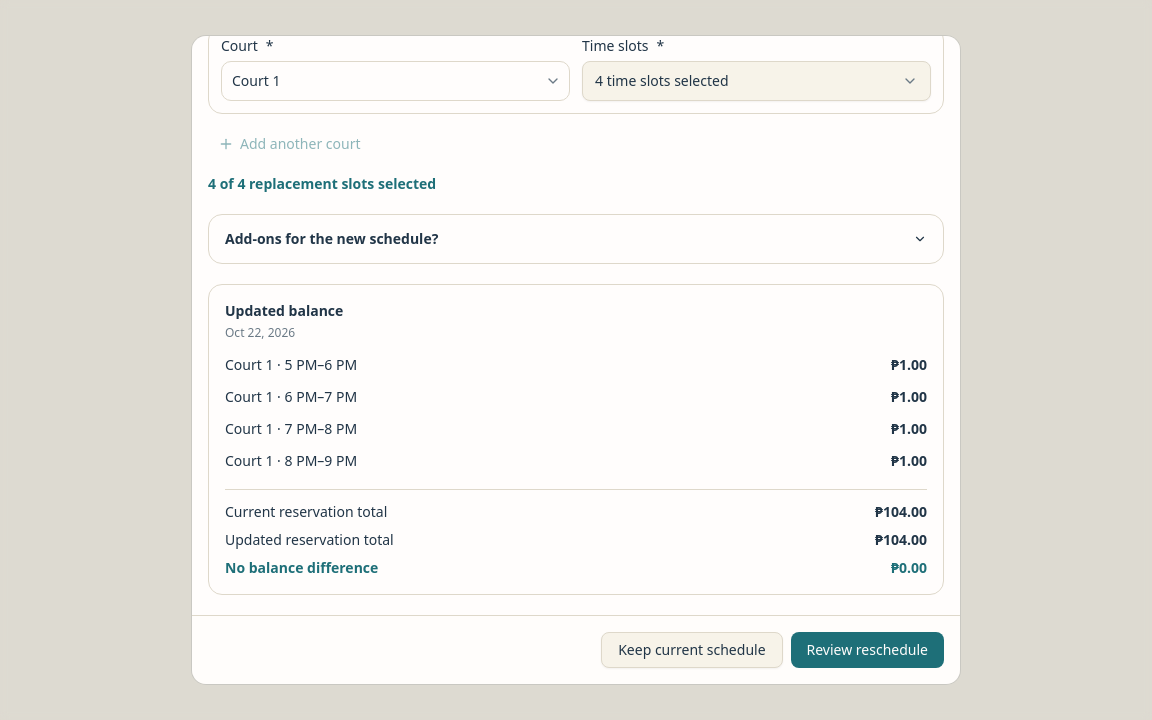
Test: rescheduling the current reservation › does not offer money already refunded as credit on a later reschedule
This screenshot has width=1152, height=720.
(page scrolled)
Check: the text "No balance difference" is shown, box [225,558,378,578]
What coordinates should you click on to do the following:
click the button "Review reschedule"
I would click on:
 (867, 650)
Its box is [790,632,944,668].
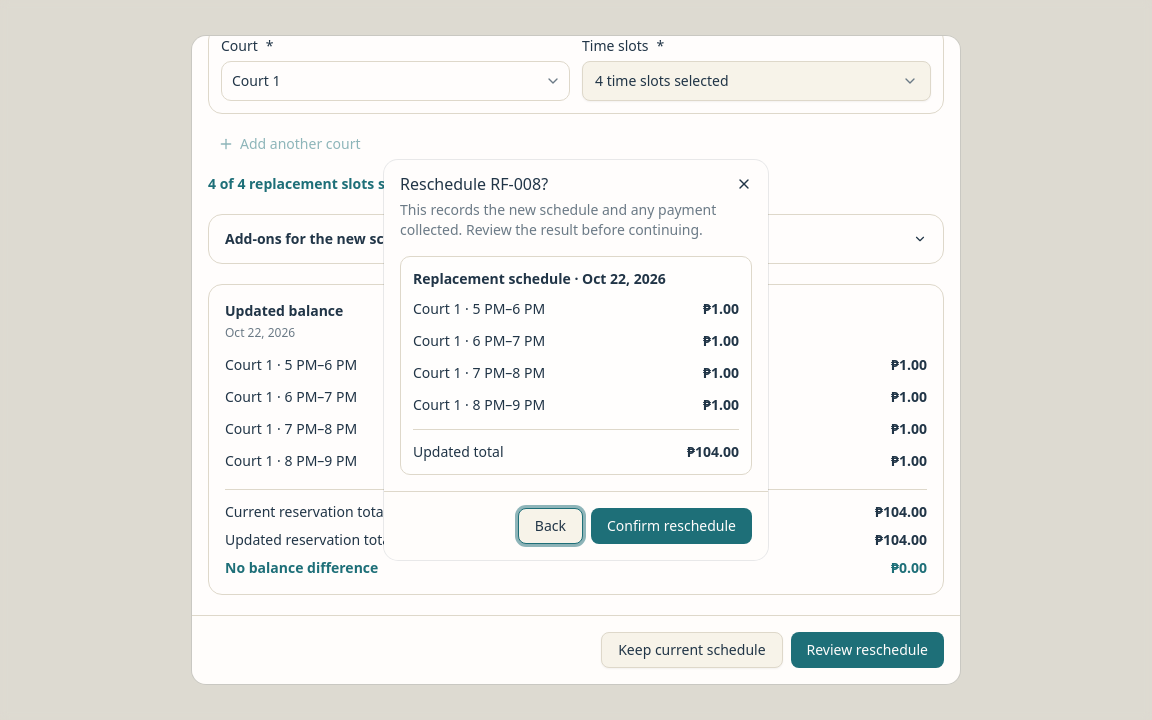
Check: the button "Confirm reschedule" is enabled, box [591,508,752,544]
